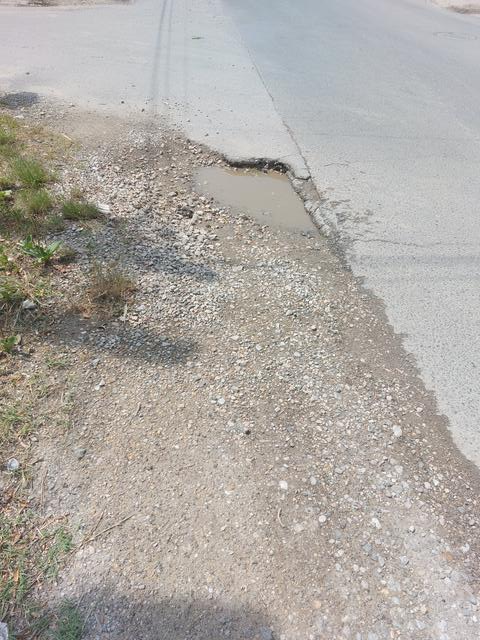pothole: (162, 118, 344, 259)
